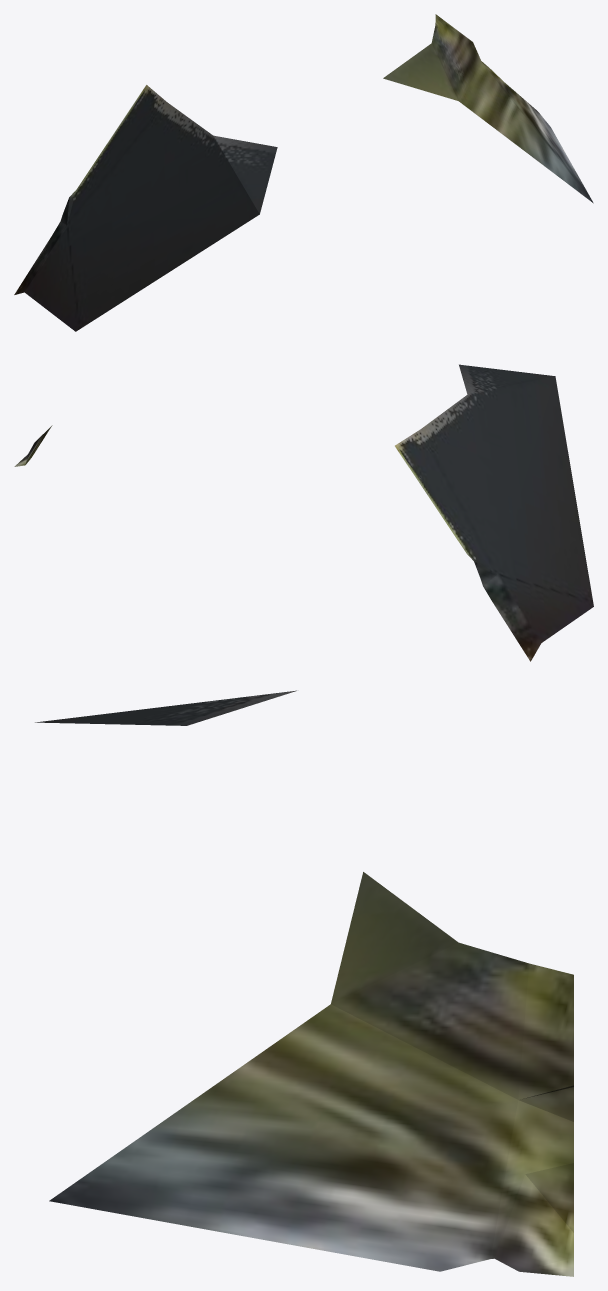
3 views of the same model, one above another, from view 1: azimuth 30°, elevation 25°; view 2: azimuth 150°, elevation 25°; view 3: azimuth 270°, elevation 25° (orthographic). The views are drawn at different scales.
Bounding box in the file's own units: 3.35 × 1.13 × 1.56.
Materials: 1 (1 with a texture image).
